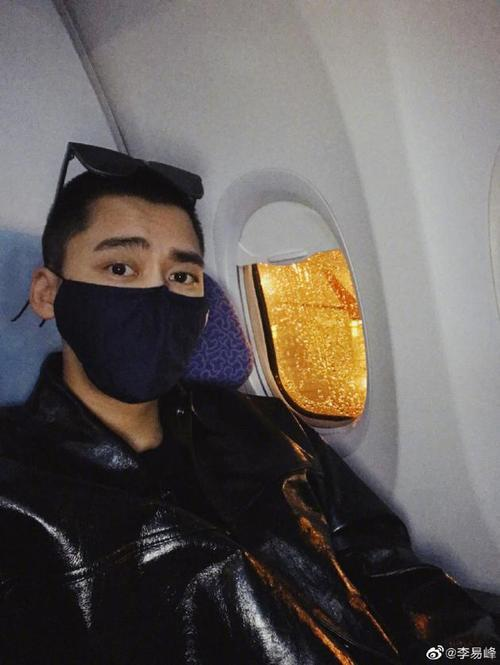mask: (30, 269, 206, 401)
